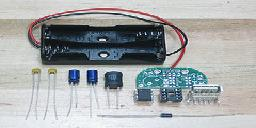Electrolytic-Capacitor: (101, 109, 236, 123), (25, 68, 43, 123), (100, 69, 122, 109), (66, 70, 83, 121), (45, 67, 60, 124), (88, 68, 99, 120), (132, 87, 157, 104), (162, 87, 182, 104)
